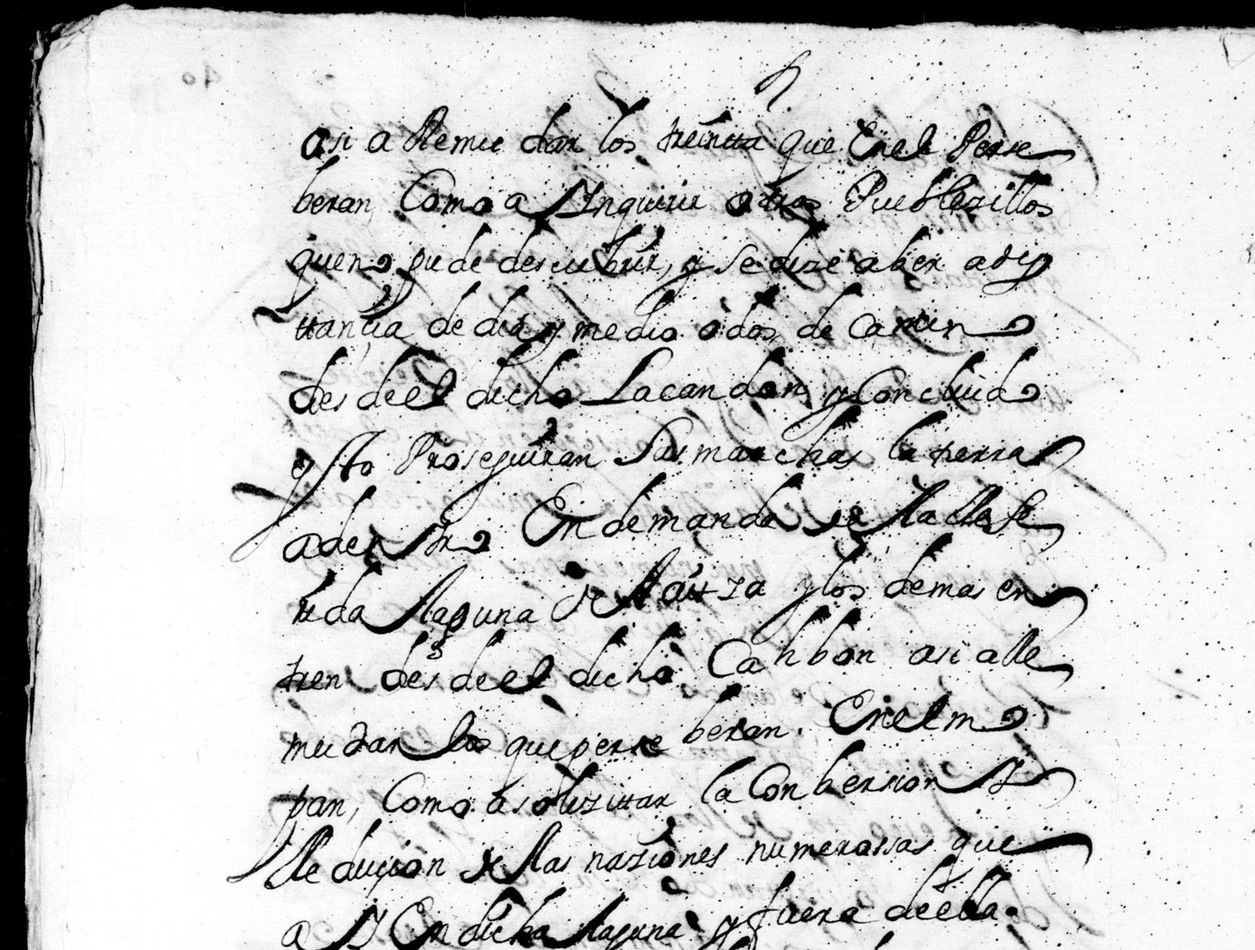lacandon: (579, 347, 808, 405)
